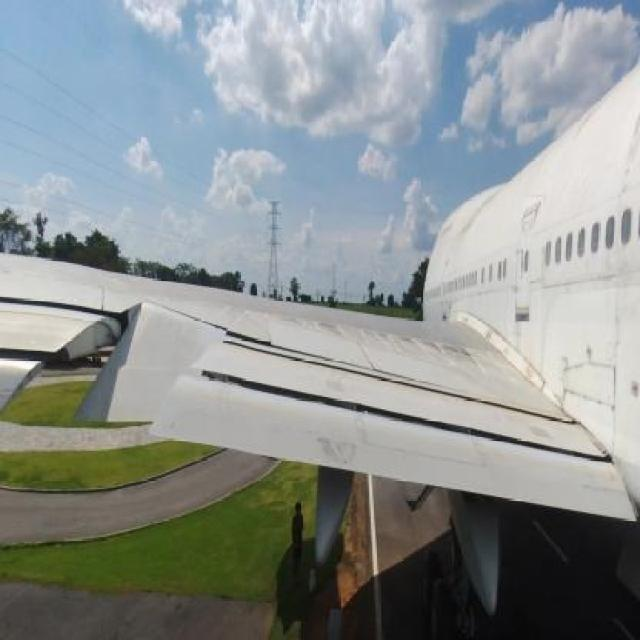Scartch: (311, 309, 480, 371), (302, 425, 375, 480), (562, 378, 621, 424), (617, 108, 640, 170)
